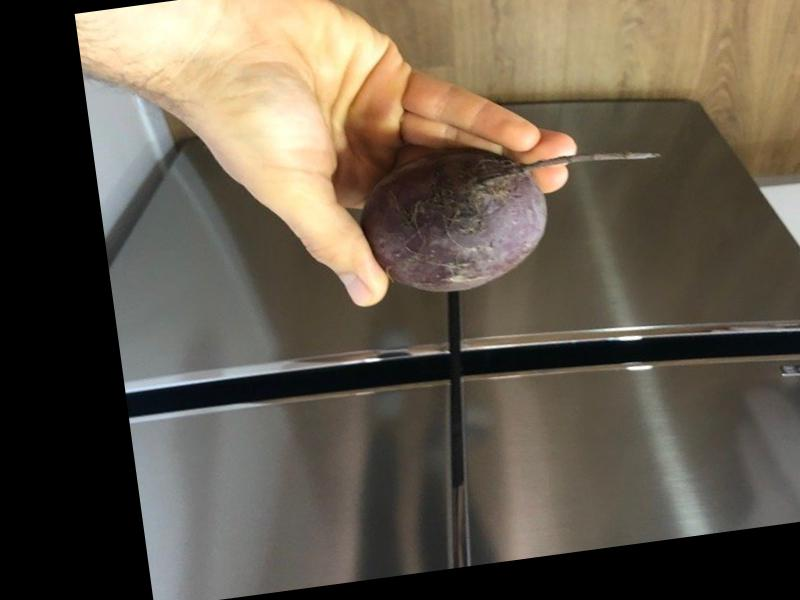Beet: (355, 123, 676, 303)
